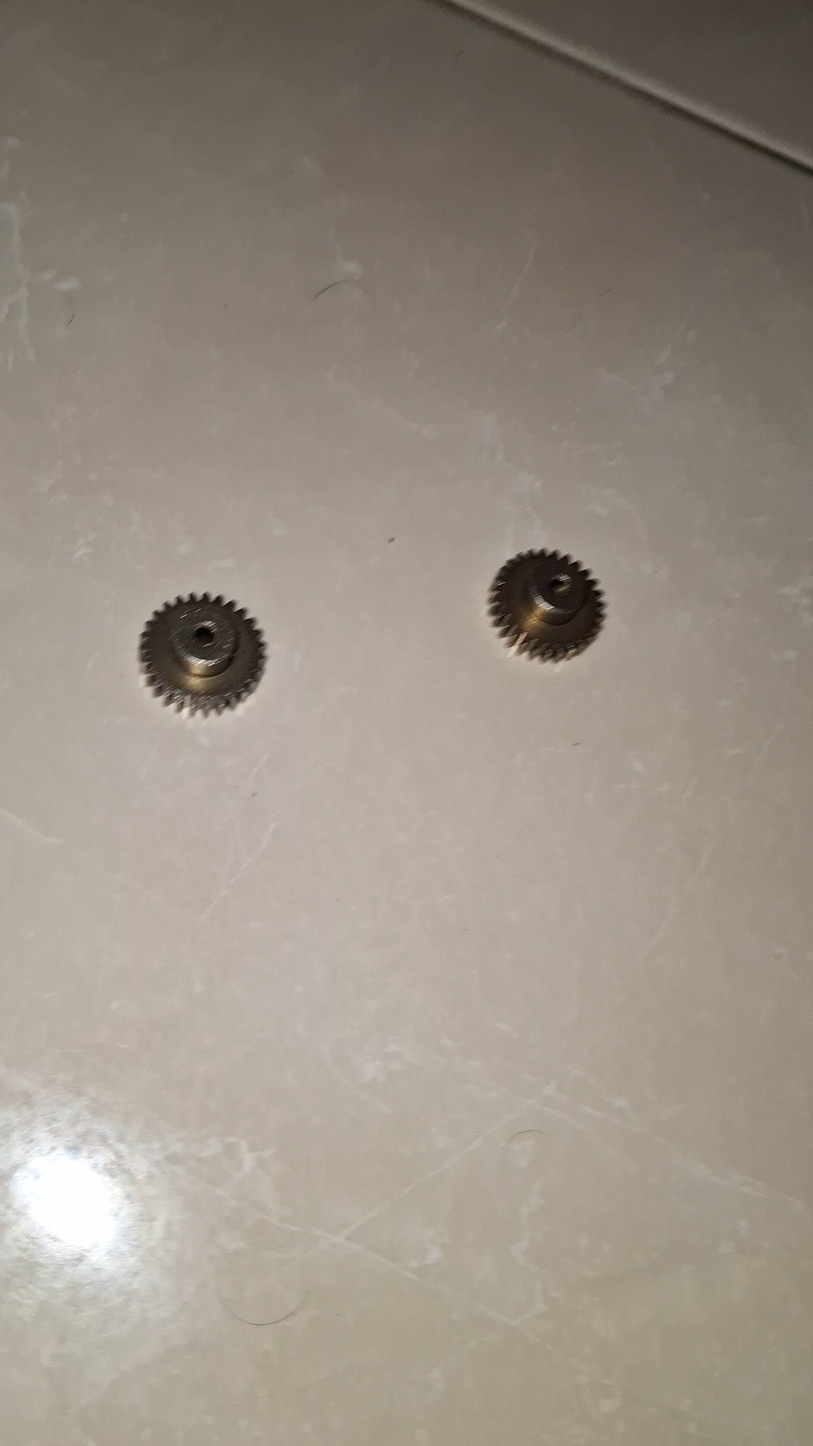spur gear: (139, 593, 265, 713), (489, 550, 604, 660)
